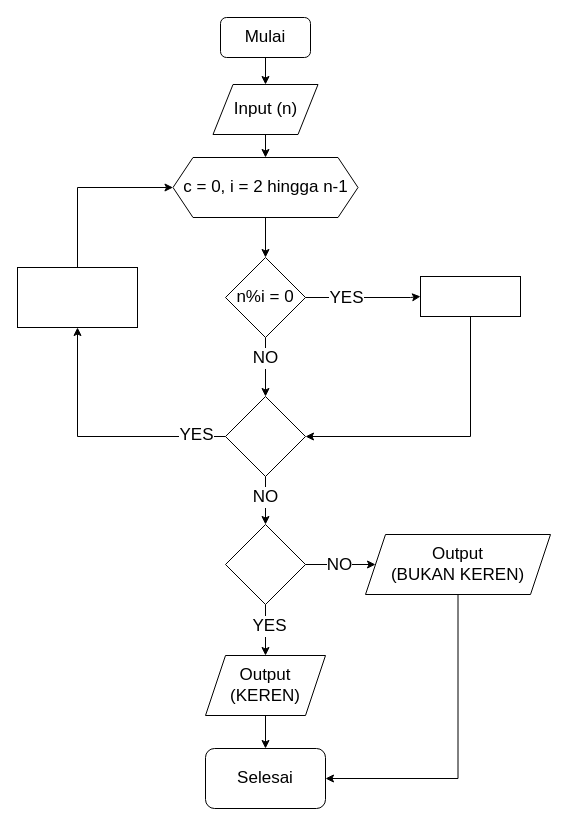
The diagram is 568 pixels wide and 826 high, and some of its shapes have lost their labels. Each missing label, with the centre of its shape:
c <= 2: the point at 265,564
c = c+1: the point at 470,296
i = i+1: the point at 77,297
i<n-1: the point at 265,436
